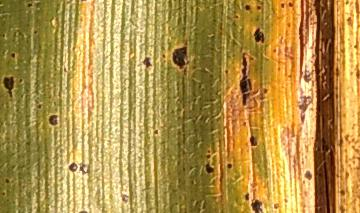tarspot: (239, 51, 255, 106), (171, 44, 191, 75), (296, 95, 313, 124), (2, 74, 15, 99), (302, 61, 313, 85), (252, 27, 266, 44), (250, 199, 265, 213), (320, 136, 330, 153), (141, 56, 154, 69), (47, 113, 58, 128), (248, 134, 259, 148), (204, 160, 215, 174), (78, 162, 89, 176), (302, 167, 313, 180), (119, 193, 131, 204), (67, 162, 79, 173), (344, 16, 354, 28), (354, 61, 360, 81), (243, 2, 252, 13), (338, 187, 347, 198), (261, 86, 270, 96), (240, 120, 249, 130), (255, 3, 263, 14), (9, 51, 18, 60), (272, 202, 281, 211), (286, 1, 295, 9), (225, 162, 234, 170), (35, 102, 44, 110), (25, 1, 34, 9), (338, 203, 345, 213), (278, 2, 286, 10), (17, 77, 25, 85), (223, 68, 231, 76), (160, 52, 168, 60), (244, 192, 251, 201), (3, 177, 10, 185), (205, 153, 213, 160), (76, 208, 87, 213), (352, 43, 359, 50), (1, 189, 7, 197), (152, 129, 160, 135), (343, 1, 352, 6), (32, 29, 38, 36), (271, 47, 277, 54), (282, 198, 289, 204), (1, 32, 6, 40), (197, 82, 202, 90), (208, 81, 214, 87), (208, 73, 215, 78), (206, 148, 211, 154)
